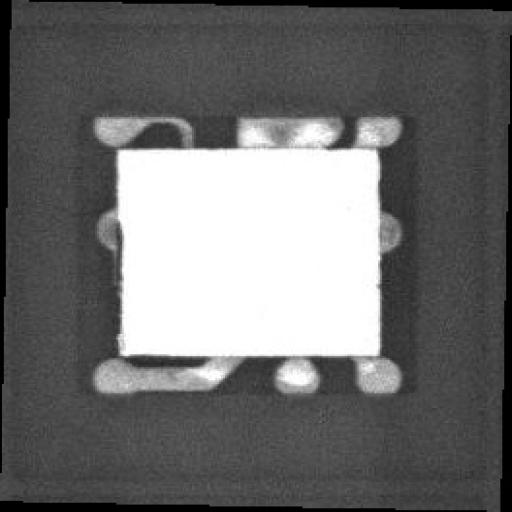DIE_BROKEN: (113, 200, 126, 356)
